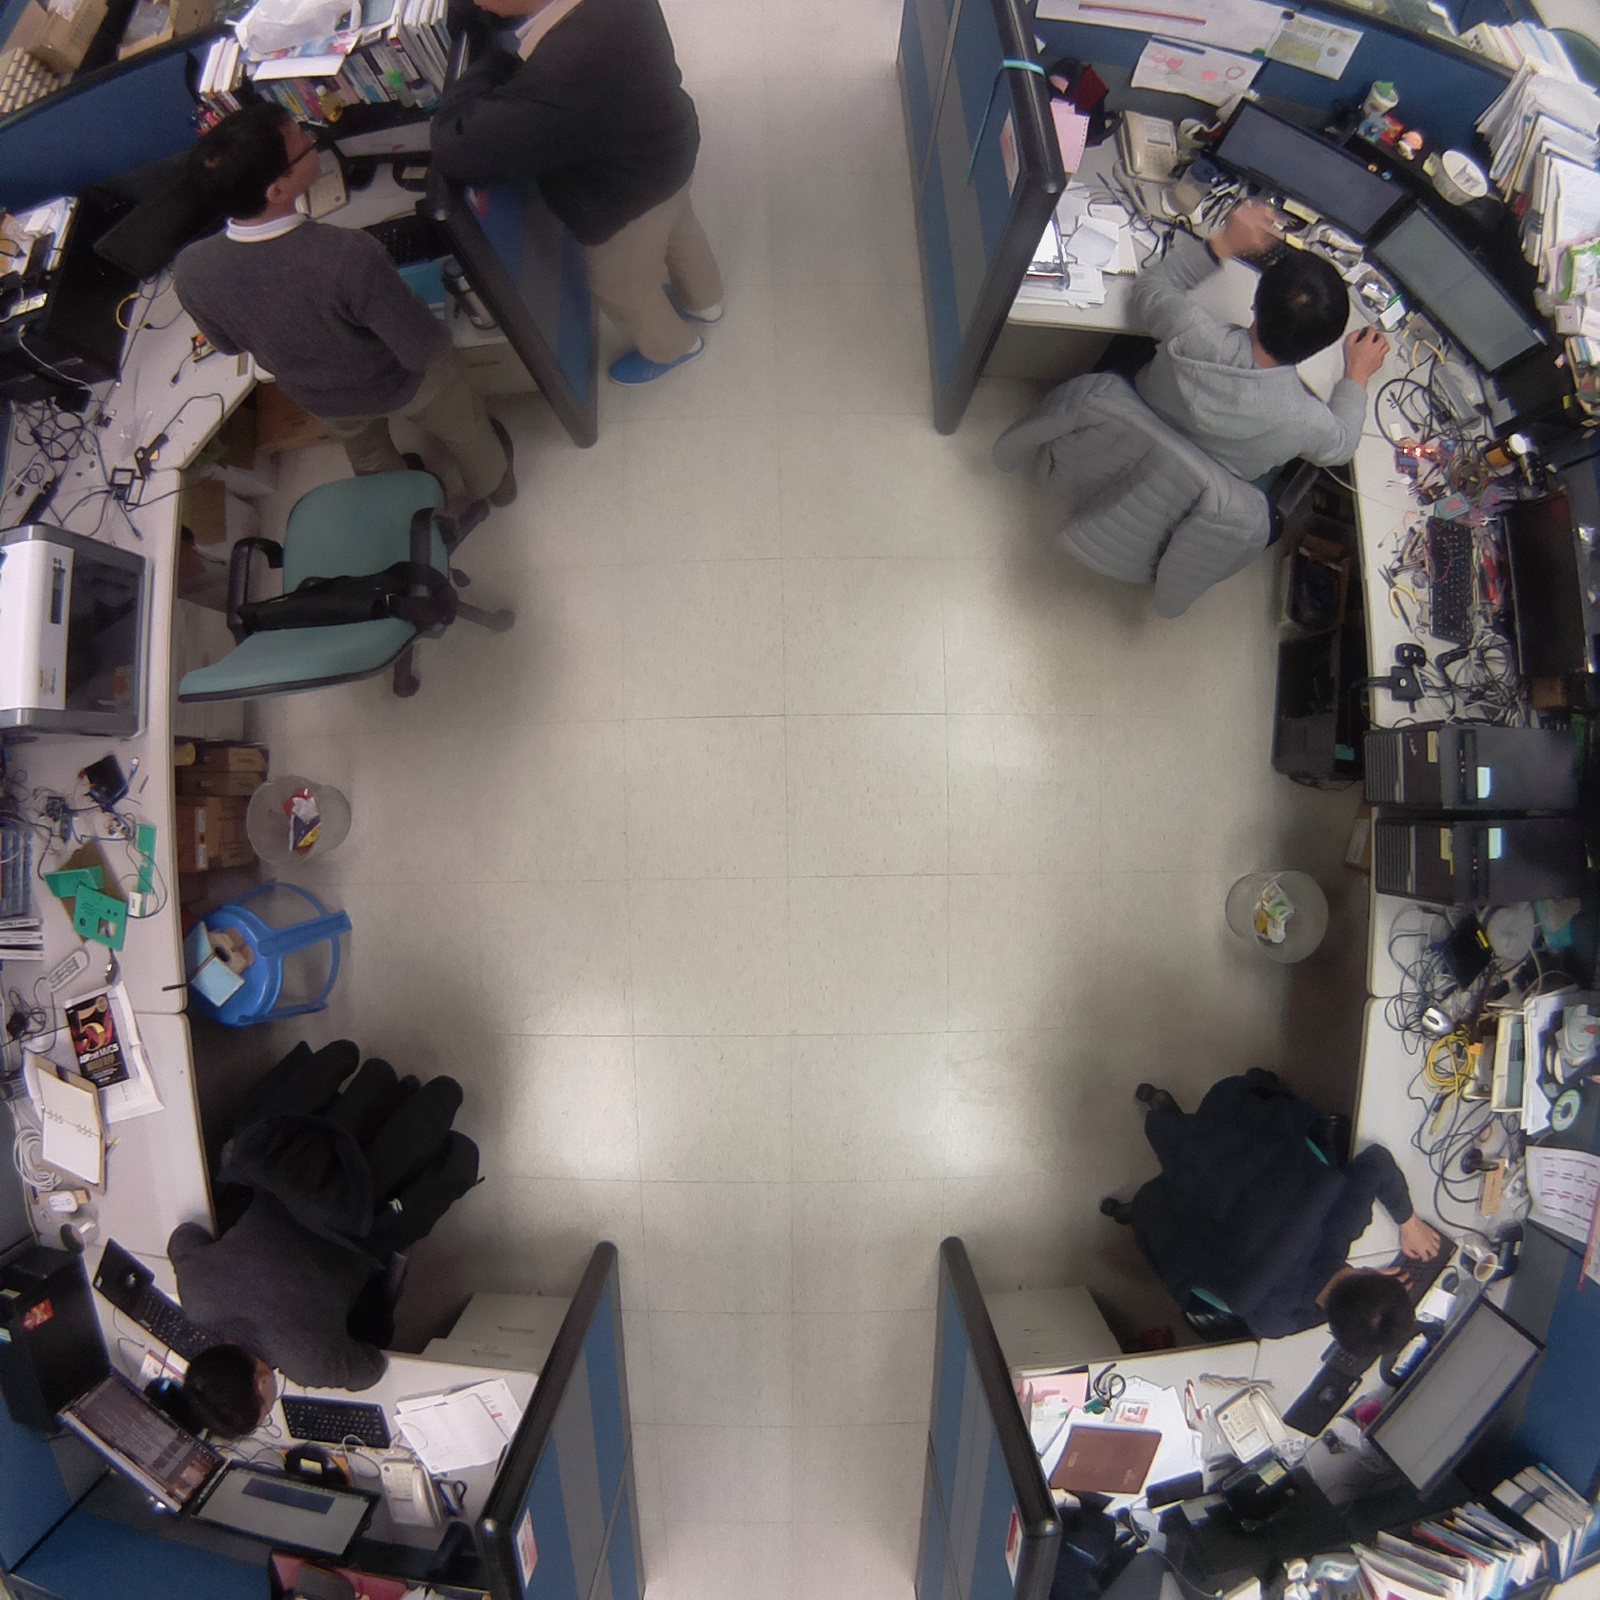chair: (140, 450, 532, 734)
head: (200, 97, 329, 219), (1242, 244, 1355, 365), (172, 1338, 287, 1446), (1325, 1259, 1423, 1365)
sitting: (970, 204, 1388, 629), (151, 1006, 499, 1443), (1083, 1047, 1438, 1367)
standing: (167, 92, 535, 517), (425, 1, 742, 395)
